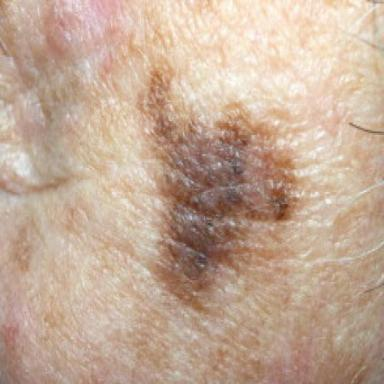Melanoma: (135, 63, 302, 307)
